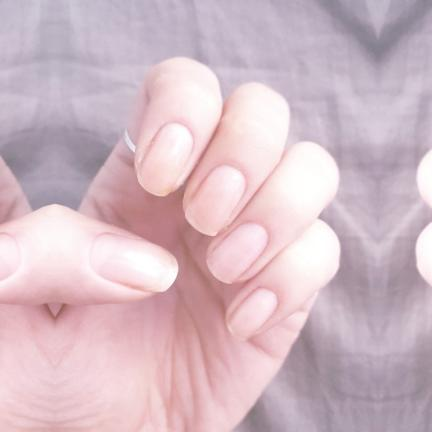Nail: (91, 233, 179, 293), (184, 165, 246, 237), (137, 122, 193, 196), (206, 222, 268, 284), (226, 288, 278, 341), (0, 233, 17, 280)
